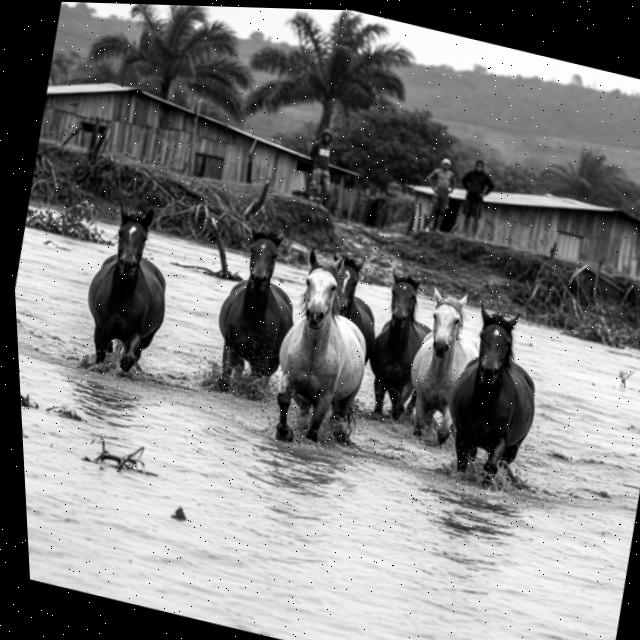civilian: (284, 116, 355, 217), (407, 146, 464, 237), (450, 150, 504, 242)
horse: (239, 243, 391, 466), (52, 189, 194, 394), (430, 292, 567, 494), (188, 216, 317, 410), (386, 277, 500, 449), (348, 256, 451, 423), (309, 248, 391, 354)
